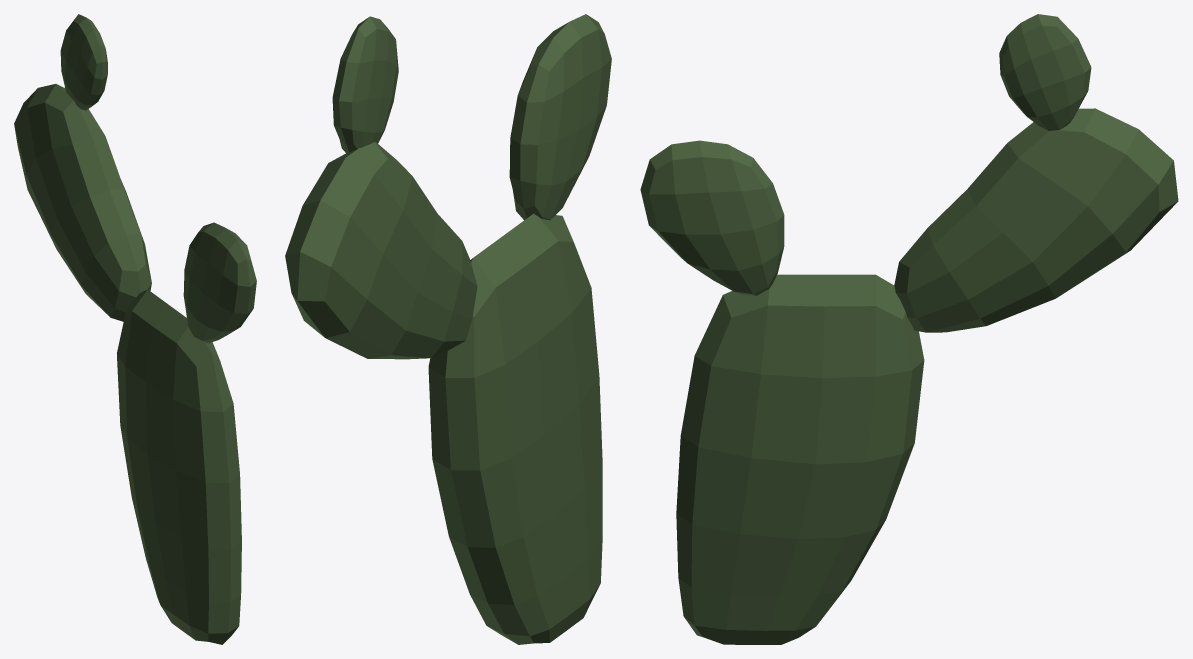
The model's file is Cactus_5.glb.
3 views of the same model, side by side, from view 1: azimuth 30°, elevation 25°; view 2: azimuth 150°, elevation 25°; view 3: azimuth 270°, elevation 25° (orthographic). The views are drawn at different scales.
Parts seen in each view (by area): view 1: Cactus_5_Cube.034; view 2: Cactus_5_Cube.034; view 3: Cactus_5_Cube.034.
Boxes of the visible parts, left/top/right/bottom form: Cactus_5_Cube.034: left=14, top=14, right=256, bottom=644; Cactus_5_Cube.034: left=285, top=14, right=611, bottom=644; Cactus_5_Cube.034: left=640, top=14, right=1178, bottom=644.
Size of the model in its own units: 0.1116 by 0.8812 by 0.6804.
